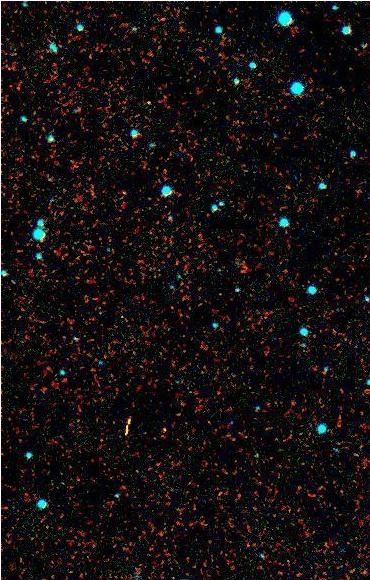star: (109, 181, 139, 211)
